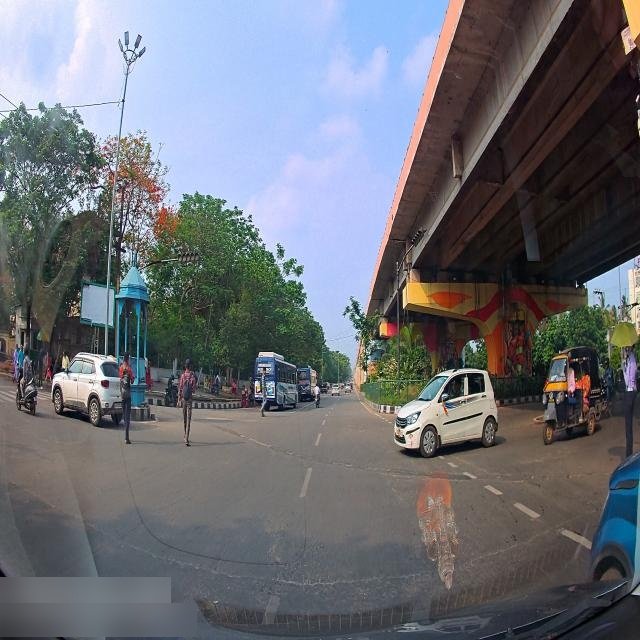pothole: (234, 432, 270, 452), (571, 476, 616, 484), (335, 457, 355, 471)
